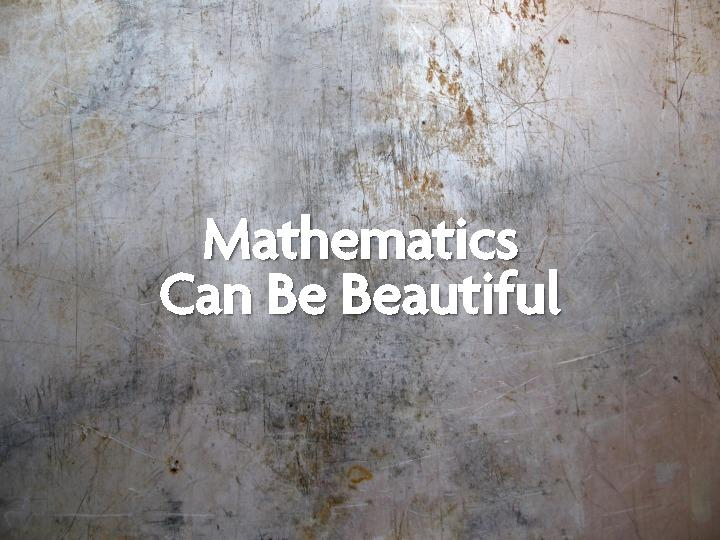title: (132, 191, 584, 332)
